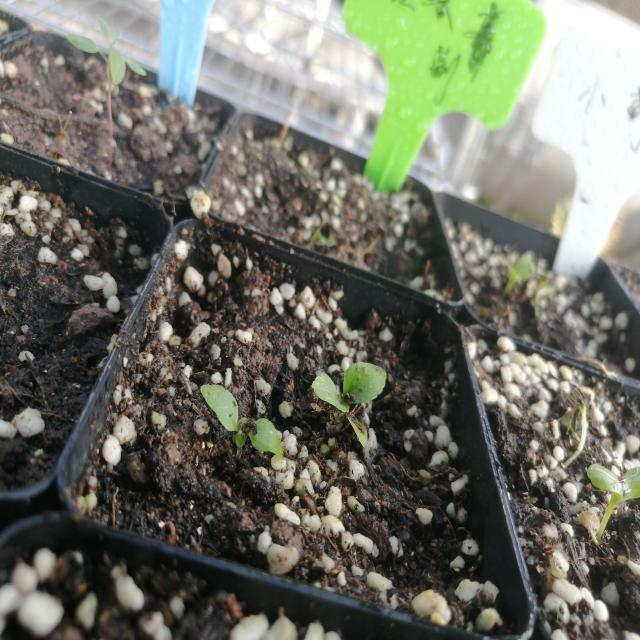billygoat_weed: (204, 375, 297, 467), (322, 340, 402, 434)
